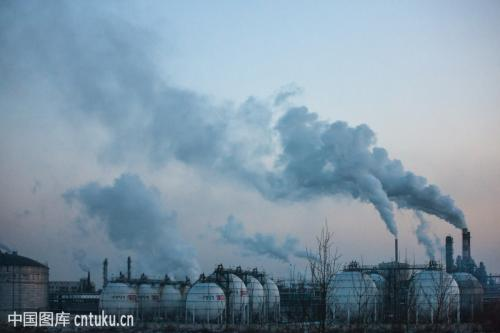dust: (360, 149, 478, 237), (221, 217, 343, 275), (333, 158, 407, 241)
